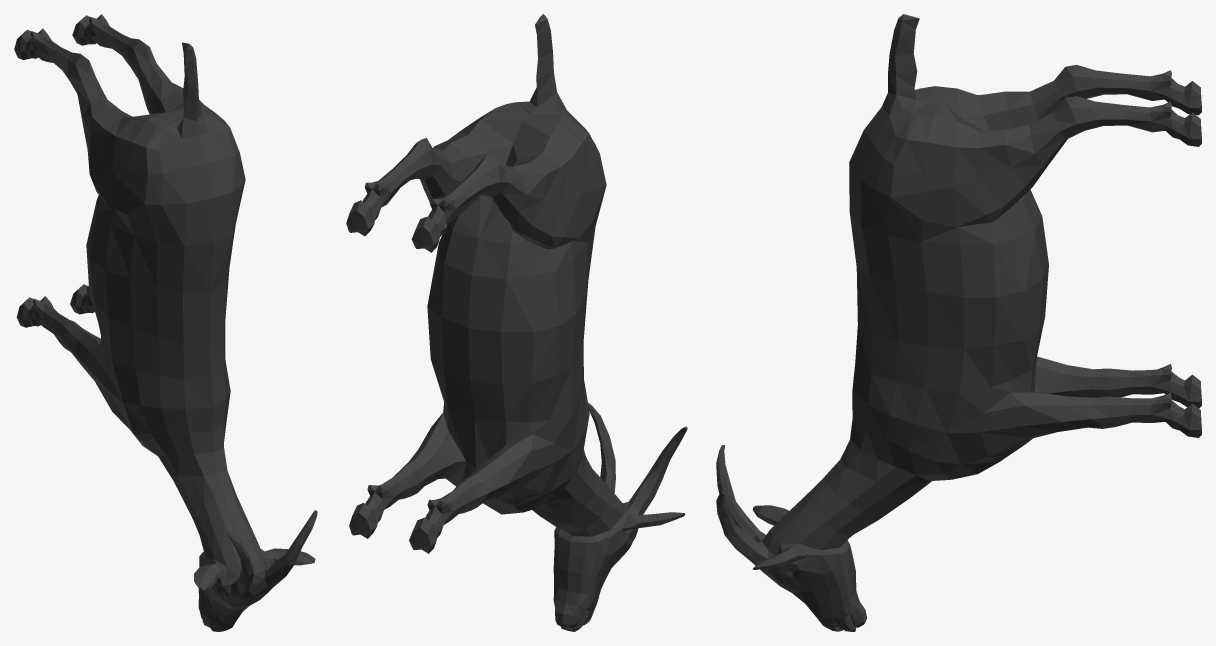
The model's file is goat.glb.
3 renders of one model, left to right at view 1: azimuth 30°, elevation 25°; view 2: azimuth 150°, elevation 25°; view 3: azimuth 270°, elevation 25°, orthographic. The views are drawn at different scales.
Visible parts, largest first — view 1: goat; view 2: goat; view 3: goat.
Part boxes in pixels (x1,y1,x2,y2): goat: (14, 14, 317, 631); goat: (346, 14, 687, 631); goat: (716, 14, 1201, 631).
Bounding box in the file's own units: 0.3644 × 1.68 × 1.2.
1 material, 1 textured.
